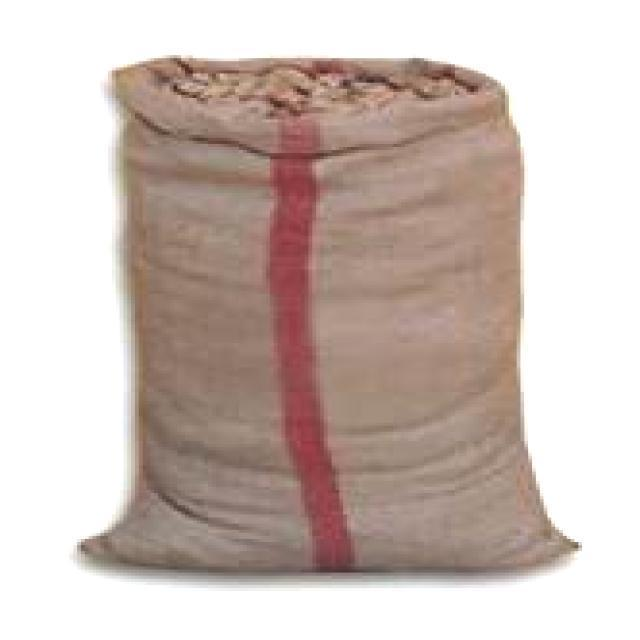gunny_bag: (70, 111, 575, 583)
